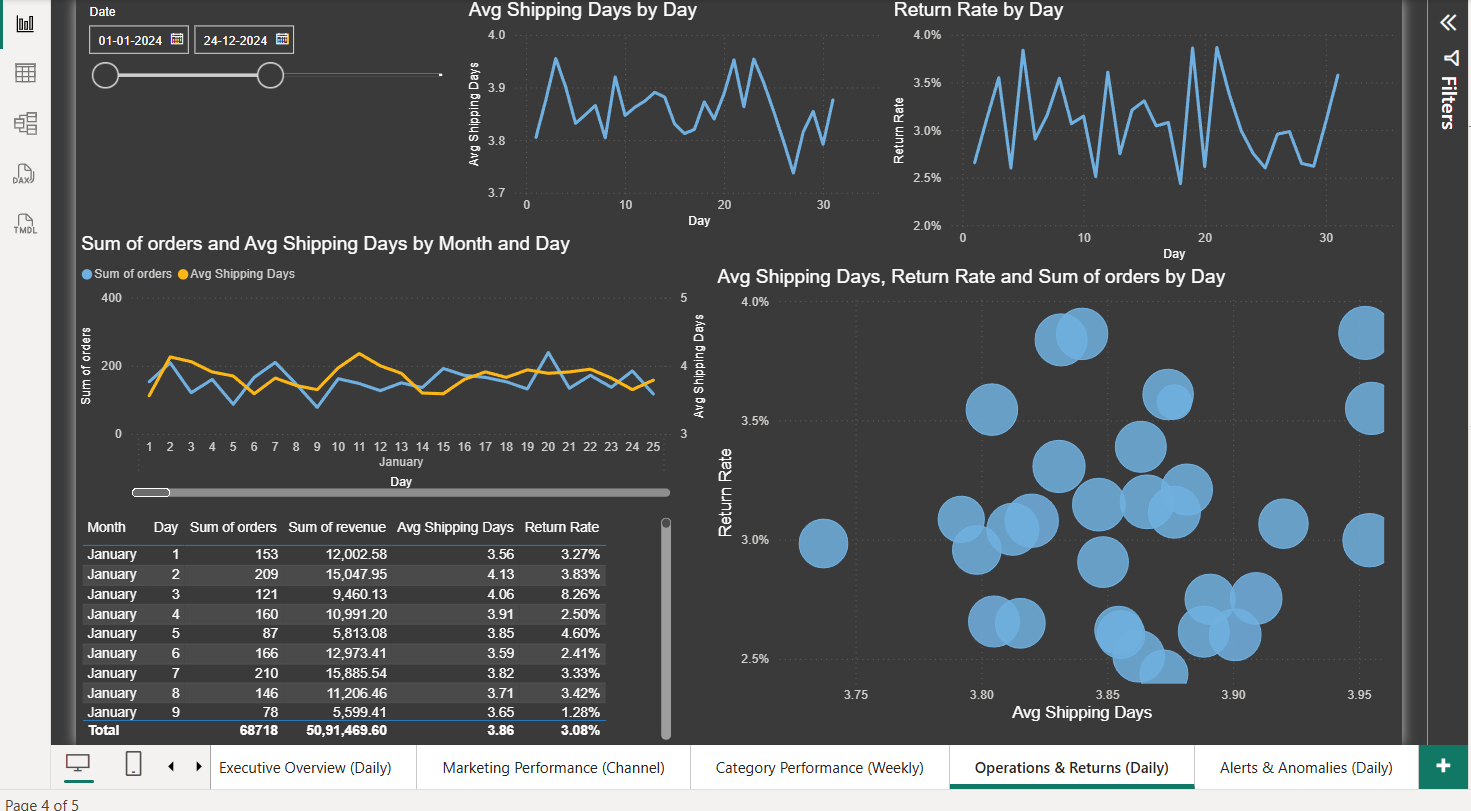

The page's visual inventory and layout, read from the dashboard file:
{"tool":"powerbi","page":{"name":"Operations & Returns (Daily)","canvas":[1280,720],"ordinal":3},"visuals":[{"type":"slicer","fields":{"Values":["DimDate2.Date"]},"box":[0,0,374.3,128.6],"z":0},{"type":"lineChart","fields":{"Y":["DimDate2.Avg Shipping Days"],"Category":["DimDate2.Date.Variation.Date Hierarchy.Day"]},"box":[374.3,0,410,225.7],"z":1000},{"type":"lineChart","fields":{"Y":["DimDate2.Return Rate"],"Category":["DimDate2.Date.Variation.Date Hierarchy.Day"]},"box":[784.3,0,495.7,257.1],"z":2000},{"type":"lineChart","fields":{"Y":["Sum(gold_daily_channel_kpis.orders)"],"Y2":["DimDate2.Avg Shipping Days"],"Category":["DimDate2.Date.Variation.Date Hierarchy.Month","DimDate2.Date.Variation.Date Hierarchy.Day"]},"box":[0,225.7,614.3,260],"z":3000},{"type":"scatterChart","fields":{"X":["DimDate2.Avg Shipping Days"],"Y":["DimDate2.Return Rate"],"Size":["Sum(gold_daily_channel_kpis.orders)"],"Category":["DimDate2.Date.Variation.Date Hierarchy.Day"]},"box":[614.3,257.1,665.7,445.7],"z":4000},{"type":"tableEx","fields":{"Values":["DimDate2.Date.Variation.Date Hierarchy.Month","DimDate2.Date.Variation.Date Hierarchy.Day","Sum(gold_daily_channel_kpis.orders)","Sum(gold_daily_channel_kpis.revenue)","DimDate2.Avg Shipping Days","DimDate2.Return Rate"]},"box":[0,495.8,579.1,224.4],"z":5000}]}

Visuals, with their boxes on the page's 1280x720 design canvas (x1, y1, x2, y2). These are canvas units, not pixel positions in the 1471x811 screenshot, which may show the page scaled, cropped or inside an application window:
slicer - DimDate2.Date: {"x1": 0, "y1": 0, "x2": 374, "y2": 129}
lineChart - DimDate2.Avg Shipping Days x DimDate2.Date.Variation.Date Hierarchy.Day: {"x1": 374, "y1": 0, "x2": 784, "y2": 226}
lineChart - DimDate2.Return Rate x DimDate2.Date.Variation.Date Hierarchy.Day: {"x1": 784, "y1": 0, "x2": 1280, "y2": 257}
lineChart - Sum(gold_daily_channel_kpis.orders) x DimDate2.Avg Shipping Days: {"x1": 0, "y1": 226, "x2": 614, "y2": 486}
scatterChart - DimDate2.Avg Shipping Days x DimDate2.Return Rate: {"x1": 614, "y1": 257, "x2": 1280, "y2": 703}
tableEx - DimDate2.Date.Variation.Date Hierarchy.Month x DimDate2.Date.Variation.Date Hierarchy.Day: {"x1": 0, "y1": 496, "x2": 579, "y2": 720}
